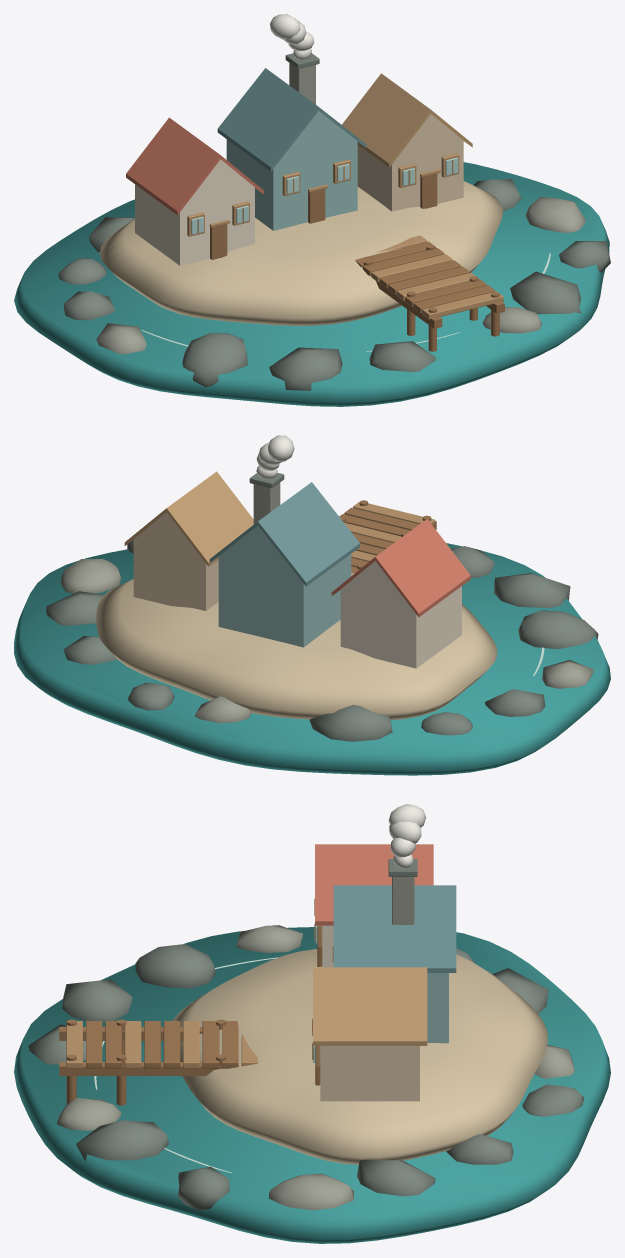
The model's file is fishing-village-v1.glb.
The picture shows the model from 3 angles, top to bottom: view 1: azimuth 30°, elevation 25°; view 2: azimuth 150°, elevation 25°; view 3: azimuth 270°, elevation 25°; orthographic projection. The views are drawn at different scales.
Parts seen in each view (by area): view 1: Village | collectible export; view 2: Village | collectible export; view 3: Village | collectible export.
Part boxes in pixels (box(x1,y1,x2,y2)): Village | collectible export: box(14, 14, 610, 406); Village | collectible export: box(14, 435, 610, 775); Village | collectible export: box(14, 804, 610, 1243).
Size of the model in its own units: 1.71 by 0.7827 by 1.44.
